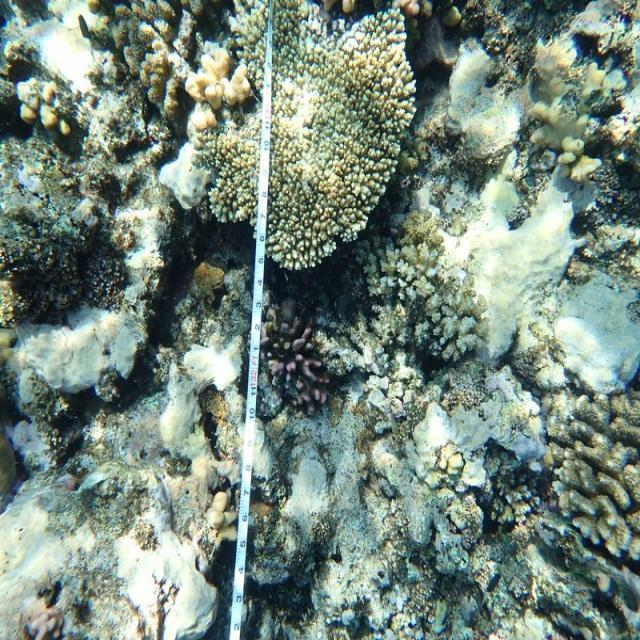Bleached Coral: (441, 192, 581, 360), (375, 384, 581, 488), (105, 501, 229, 640), (545, 239, 635, 412), (0, 307, 169, 397), (181, 313, 269, 402), (159, 126, 228, 222)
